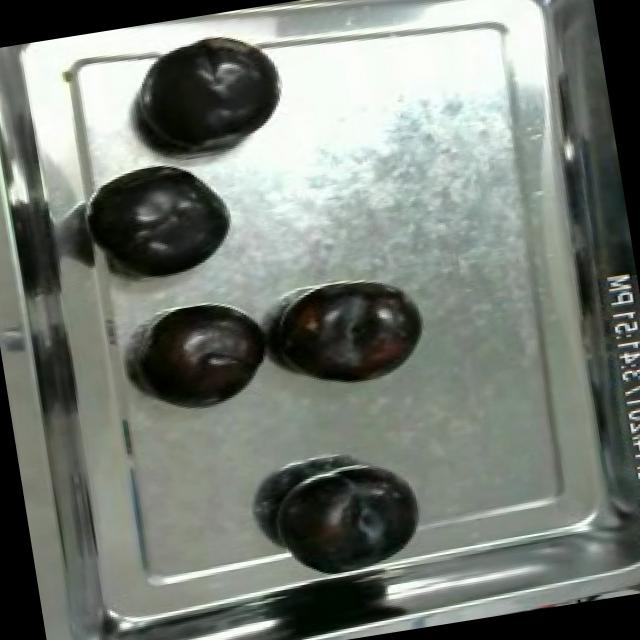Fruit: (74, 148, 246, 294), (121, 25, 297, 166), (262, 452, 436, 586), (274, 276, 434, 398), (137, 301, 277, 419)
